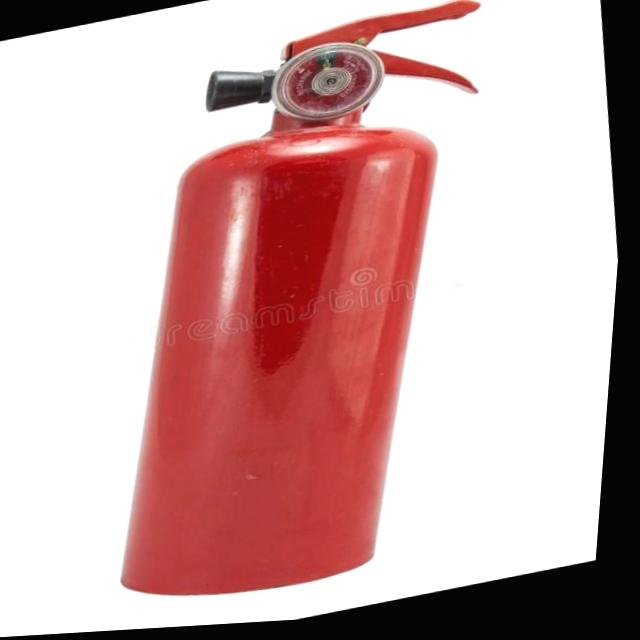FireExtinguisher: (41, 0, 562, 632)
